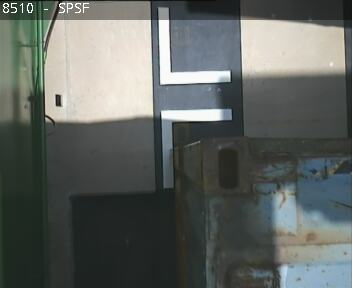groundmarker_1: (156, 7, 233, 187)
